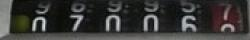digits: (98, 0, 127, 35), (176, 0, 199, 36), (27, 0, 51, 33), (139, 0, 159, 34), (68, 0, 86, 33), (212, 3, 238, 23)
